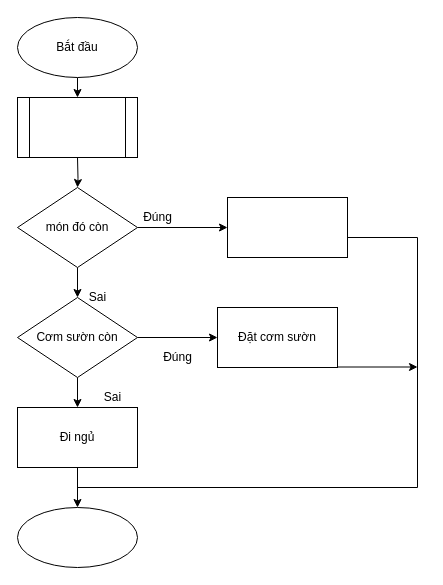
This 443x585 diagram has some shape labels left out. The centre of each missing label's shape, as x and y in pixels:
"Kết thúc" goes at point 77,537.
"Nhập món đó" goes at point 77,127.
"Đặt món đó" goes at point 287,227.
